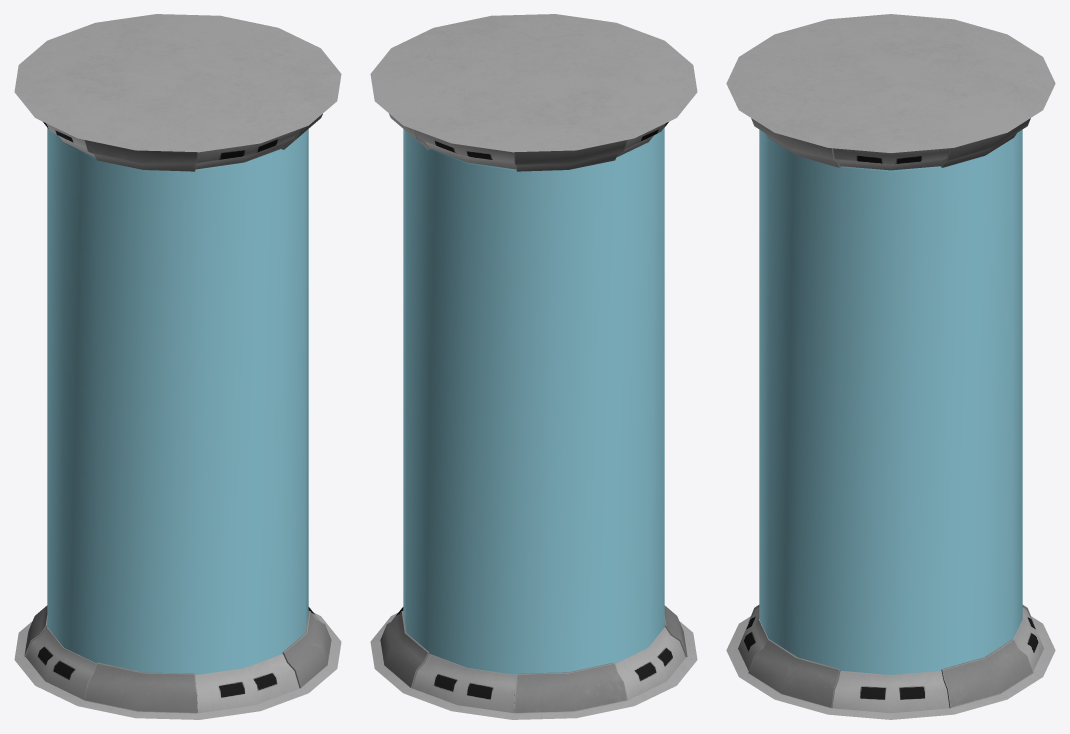
Rendered from ScifiChamber.glb.
The picture shows the model from 3 angles, left to right: view 1: azimuth 30°, elevation 25°; view 2: azimuth 150°, elevation 25°; view 3: azimuth 270°, elevation 25°; orthographic projection.
Visible parts, largest first — view 1: Glass, Base; view 2: Glass, Base; view 3: Glass, Base.
Part boxes in pixels (left/top/right/bottom): Glass: left=47, top=128, right=308, bottom=674; Base: left=14, top=14, right=341, bottom=719; Glass: left=403, top=128, right=664, bottom=674; Base: left=370, top=14, right=697, bottom=719; Glass: left=759, top=129, right=1022, bottom=674; Base: left=726, top=14, right=1055, bottom=719.
Bounding box in the file's own units: 5.39 × 10.5 × 5.39.
2 materials, 1 textured.
